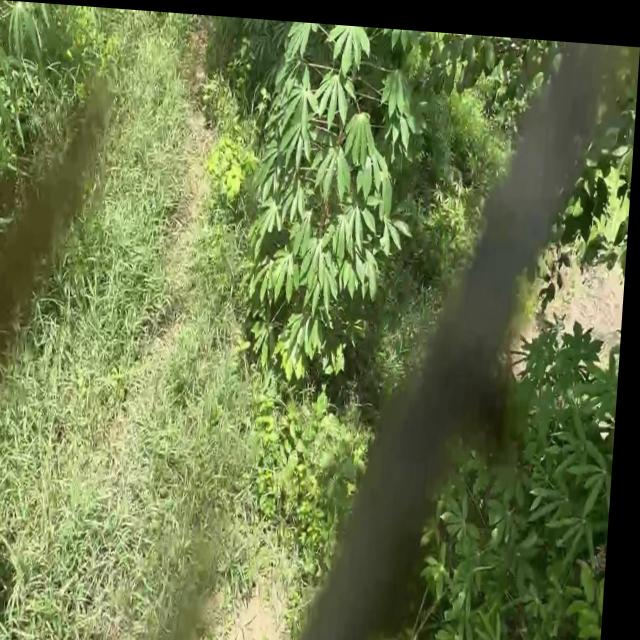Maleza: (20, 295, 172, 483), (99, 430, 266, 593), (248, 394, 376, 536), (143, 96, 231, 292), (12, 498, 129, 640), (109, 296, 216, 433), (98, 14, 227, 104), (82, 180, 155, 318)
Mosca: (307, 260, 326, 290), (467, 441, 477, 460)
